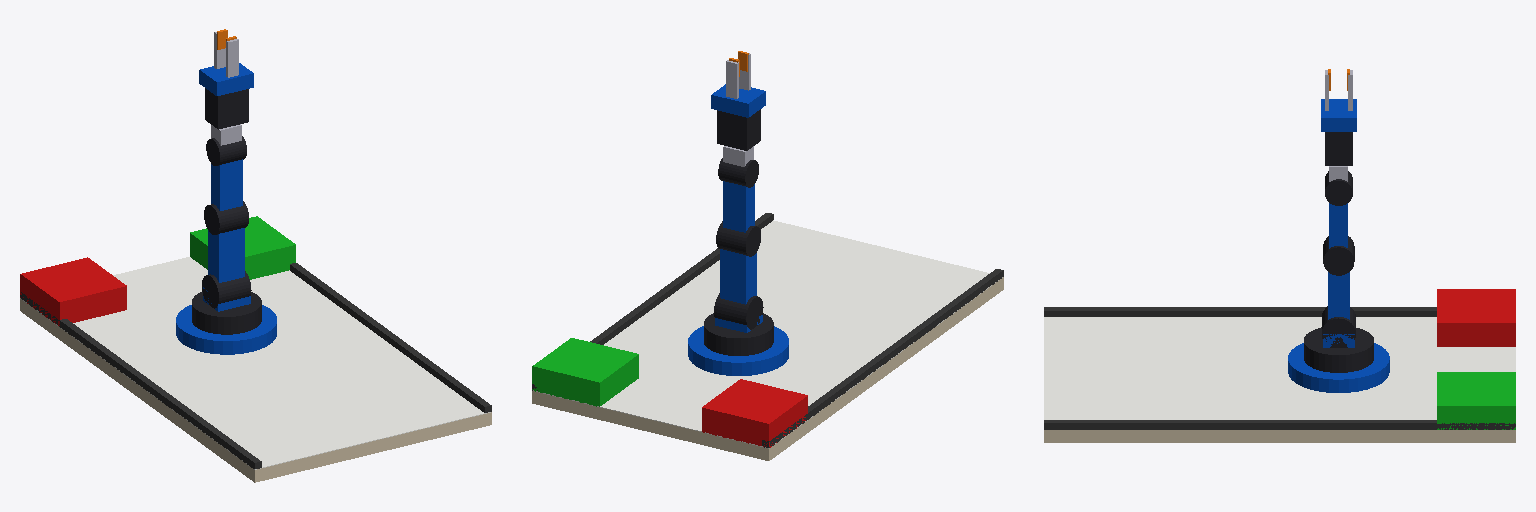
The robot description file, URDF, robot "xarm_1s_workcell":
<?xml version="1.0"?>
<robot name="xarm_1s_workcell">

  <!-- ========================================================================= -->
  <!-- MATERIALS                                                                 -->
  <!-- ========================================================================= -->
  <material name="chassis_blue">
    <color rgba="0.06 0.36 0.78 1.0"/>
  </material>

  <material name="servo_black">
    <color rgba="0.18 0.18 0.20 1.0"/>
  </material>

  <material name="bracket_metal">
    <color rgba="0.75 0.75 0.80 1.0"/>
  </material>

  <material name="table_wood">
    <color rgba="0.85 0.80 0.70 1.0"/>
  </material>

  <material name="arena_surface">
    <color rgba="0.96 0.96 0.94 1.0"/>
  </material>

  <material name="foam_barrier">
    <color rgba="0.25 0.25 0.25 1.0"/>
  </material>

  <material name="red_container_mat">
    <color rgba="0.85 0.12 0.12 0.85"/>
  </material>

  <material name="green_container_mat">
    <color rgba="0.12 0.75 0.18 0.85"/>
  </material>

  <material name="claw_pad">
    <color rgba="0.95 0.50 0.10 1.0"/>
  </material>

  <!-- ========================================================================= -->
  <!-- WORLD & WORKSPACE GEOMETRY                                                -->
  <!-- ========================================================================= -->
  <link name="world"/>

  <!-- Table Baseboard (350mm x 600mm x 18mm) -->
  <joint name="world_to_table" type="fixed">
    <parent link="world"/>
    <child link="table_board"/>
    <origin xyz="0.175 0.300 -0.009" rpy="0 0 0"/>
  </joint>

  <link name="table_board">
    <visual>
      <geometry>
        <box size="0.350 0.600 0.018"/>
      </geometry>
      <material name="table_wood"/>
    </visual>
    <collision>
      <geometry>
        <box size="0.350 0.600 0.018"/>
      </geometry>
    </collision>
  </link>

  <!-- Arena Surface (7x12 Grid: 350mm x 600mm) at Z = 0.0 -->
  <joint name="table_to_arena_surface" type="fixed">
    <parent link="world"/>
    <child link="arena_surface_link"/>
    <origin xyz="0.175 0.300 0.0005" rpy="0 0 0"/>
  </joint>

  <link name="arena_surface_link">
    <visual>
      <geometry>
        <box size="0.350 0.600 0.001"/>
      </geometry>
      <material name="arena_surface"/>
    </visual>
  </link>

  <!-- Compliant Foam Perimeter (8mm tall) -->
  <joint name="arena_to_perimeter_left" type="fixed">
    <parent link="world"/>
    <child link="perimeter_left"/>
    <origin xyz="0.005 0.300 0.005" rpy="0 0 0"/>
  </joint>
  <link name="perimeter_left">
    <visual>
      <geometry>
        <box size="0.010 0.600 0.010"/>
      </geometry>
      <material name="foam_barrier"/>
    </visual>
  </link>

  <joint name="arena_to_perimeter_right" type="fixed">
    <parent link="world"/>
    <child link="perimeter_right"/>
    <origin xyz="0.345 0.300 0.005" rpy="0 0 0"/>
  </joint>
  <link name="perimeter_right">
    <visual>
      <geometry>
        <box size="0.010 0.600 0.010"/>
      </geometry>
      <material name="foam_barrier"/>
    </visual>
  </link>

  <!-- Red Container Box (Rows 0..1, Cols 0..1 @ X=50mm, Y=550mm, Z=45mm) -->
  <joint name="world_to_red_box" type="fixed">
    <parent link="world"/>
    <child link="red_container_box"/>
    <origin xyz="0.050 0.550 0.0175" rpy="0 0 0"/>
  </joint>

  <link name="red_container_box">
    <visual>
      <geometry>
        <box size="0.100 0.100 0.035"/>
      </geometry>
      <material name="red_container_mat"/>
    </visual>
    <collision>
      <geometry>
        <box size="0.100 0.100 0.035"/>
      </geometry>
    </collision>
  </link>

  <!-- Green Container Box (Rows 0..1, Cols 5..6 @ X=300mm, Y=550mm, Z=45mm) -->
  <joint name="world_to_green_box" type="fixed">
    <parent link="world"/>
    <child link="green_container_box"/>
    <origin xyz="0.300 0.550 0.0175" rpy="0 0 0"/>
  </joint>

  <link name="green_container_box">
    <visual>
      <geometry>
        <box size="0.100 0.100 0.035"/>
      </geometry>
      <material name="green_container_mat"/>
    </visual>
    <collision>
      <geometry>
        <box size="0.100 0.100 0.035"/>
      </geometry>
    </collision>
  </link>

  <!-- ========================================================================= -->
  <!-- XARM 1S MANIPULATOR (Mount: X=175mm, Y=375mm, Z=0mm, Heading: -90° South) -->
  <!-- ========================================================================= -->
  <joint name="world_to_xarm_base" type="fixed">
    <parent link="world"/>
    <child link="xarm_1_base_link"/>
    <!-- Heading -90° (South) = rpy="0 0 -1.57079632679" -->
    <origin xyz="0.175 0.375 0.0" rpy="0 0 -1.57079632679"/>
  </joint>

  <link name="xarm_1_base_link">
    <visual>
      <!-- Blue Base Chassis Flange -->
      <origin xyz="0 0 0.010" rpy="0 0 0"/>
      <geometry>
        <cylinder radius="0.065" length="0.020"/>
      </geometry>
      <material name="chassis_blue"/>
    </visual>
    <collision>
      <origin xyz="0 0 0.010" rpy="0 0 0"/>
      <geometry>
        <cylinder radius="0.065" length="0.020"/>
      </geometry>
    </collision>
  </link>

  <!-- Joint 6: Base Yaw (Motor 6) -->
  <joint name="base_yaw" type="revolute">
    <parent link="xarm_1_base_link"/>
    <child link="shoulder_pedestal_link"/>
    <origin xyz="0 0 0.020" rpy="0 0 0"/>
    <axis xyz="0 0 1"/>
    <limit lower="-1.6839" upper="1.6671" effort="3.0" velocity="3.14"/>
  </joint>

  <!-- Base-to-Shoulder Pedestal (Height d1 = 65mm total from table to Motor 5 axis) -->
  <link name="shoulder_pedestal_link">
    <visual>
      <!-- Turntable rotating hub -->
      <origin xyz="0 0 0.0125" rpy="0 0 0"/>
      <geometry>
        <cylinder radius="0.045" length="0.025"/>
      </geometry>
      <material name="servo_black"/>
    </visual>
    <visual>
      <!-- Vertical shoulder riser bracket (d1 offset = 45mm from hub to axis) -->
      <origin xyz="0 0 0.0325" rpy="0 0 0"/>
      <geometry>
        <box size="0.040 0.048 0.025"/>
      </geometry>
      <material name="chassis_blue"/>
    </visual>
    <collision>
      <origin xyz="0 0 0.0225" rpy="0 0 0"/>
      <geometry>
        <cylinder radius="0.048" length="0.045"/>
      </geometry>
    </collision>
  </link>

  <!-- Joint 5: Shoulder Pitch (Motor 5, at height d1 = 65mm above table surface) -->
  <!-- Note: 0.020 (base) + 0.045 (pedestal) = 0.065m = d1 -->
  <joint name="shoulder_pitch" type="revolute">
    <parent link="shoulder_pedestal_link"/>
    <child link="upper_arm_link"/>
    <origin xyz="0 0 0.045" rpy="0 0 0"/>
    <axis xyz="0 1 0"/>
    <limit lower="-1.5750" upper="1.4786" effort="5.0" velocity="3.14"/>
  </joint>

  <!-- Upper Arm Link (Length L1 = 101mm between shoulder axis and elbow axis) -->
  <link name="upper_arm_link">
    <visual>
      <!-- Motor 5 servo body -->
      <origin xyz="0 0 0" rpy="1.5707963 0 0"/>
      <geometry>
        <cylinder radius="0.022" length="0.048"/>
      </geometry>
      <material name="servo_black"/>
    </visual>
    <visual>
      <!-- Upper arm structural dual aluminum channel (L1 = 101mm along +Z) -->
      <origin xyz="0 0 0.0505" rpy="0 0 0"/>
      <geometry>
        <box size="0.028 0.038 0.101"/>
      </geometry>
      <material name="chassis_blue"/>
    </visual>
    <collision>
      <origin xyz="0 0 0.0505" rpy="0 0 0"/>
      <geometry>
        <box size="0.032 0.042 0.105"/>
      </geometry>
    </collision>
  </link>

  <!-- Joint 4: Elbow Pitch (Motor 4, at L1 = 101mm from shoulder) -->
  <joint name="elbow_pitch" type="revolute">
    <parent link="upper_arm_link"/>
    <child link="forearm_link"/>
    <origin xyz="0 0 0.101" rpy="0 0 0"/>
    <axis xyz="0 -1 0"/>
    <limit lower="-1.4368" upper="1.5247" effort="4.0" velocity="3.14"/>
  </joint>

  <!-- Forearm Link (Length L2 = 95mm between elbow axis and wrist pitch axis) -->
  <link name="forearm_link">
    <visual>
      <!-- Motor 4 servo body -->
      <origin xyz="0 0 0" rpy="1.5707963 0 0"/>
      <geometry>
        <cylinder radius="0.020" length="0.044"/>
      </geometry>
      <material name="servo_black"/>
    </visual>
    <visual>
      <!-- Forearm structural bracket (L2 = 95mm along +Z) -->
      <origin xyz="0 0 0.0475" rpy="0 0 0"/>
      <geometry>
        <box size="0.024 0.034 0.095"/>
      </geometry>
      <material name="chassis_blue"/>
    </visual>
    <collision>
      <origin xyz="0 0 0.0475" rpy="0 0 0"/>
      <geometry>
        <box size="0.028 0.038 0.095"/>
      </geometry>
    </collision>
  </link>

  <!-- Joint 3: Wrist Pitch (Motor 3, at L2 = 95mm from elbow) -->
  <joint name="wrist_pitch" type="revolute">
    <parent link="forearm_link"/>
    <child link="wrist_pitch_link"/>
    <origin xyz="0 0 0.095" rpy="0 0 0"/>
    <axis xyz="0 1 0"/>
    <limit lower="-1.6043" upper="1.5080" effort="2.5" velocity="3.14"/>
  </joint>

  <link name="wrist_pitch_link">
    <visual>
      <!-- Motor 3 servo body -->
      <origin xyz="0 0 0" rpy="1.5707963 0 0"/>
      <geometry>
        <cylinder radius="0.018" length="0.040"/>
      </geometry>
      <material name="servo_black"/>
    </visual>
    <visual>
      <!-- Connecting bracket to Motor 2 wrist roll -->
      <origin xyz="0 0 0.0175" rpy="0 0 0"/>
      <geometry>
        <box size="0.024 0.032 0.035"/>
      </geometry>
      <material name="bracket_metal"/>
    </visual>
    <collision>
      <origin xyz="0 0 0.0175" rpy="0 0 0"/>
      <geometry>
        <box size="0.026 0.034 0.035"/>
      </geometry>
    </collision>
  </link>

  <!-- Joint 2: Wrist Roll (Motor 2, axial roll along tool shaft) -->
  <joint name="wrist_roll" type="revolute">
    <parent link="wrist_pitch_link"/>
    <child link="gripper_base_link"/>
    <origin xyz="0 0 0.035" rpy="0 0 0"/>
    <axis xyz="0 0 1"/>
    <limit lower="-1.5876" upper="1.5959" effort="2.0" velocity="3.14"/>
  </joint>

  <!-- Gripper Base & Motor 1 Housing (Length to grip center L3 = 150mm total from wrist pitch) -->
  <!-- Note: 0.035 + 0.115 = 0.150m = L3_grip -->
  <link name="gripper_base_link">
    <visual>
      <!-- Motor 2 & Motor 1 chassis -->
      <origin xyz="0 0 0.030" rpy="0 0 0"/>
      <geometry>
        <box size="0.035 0.045 0.050"/>
      </geometry>
      <material name="servo_black"/>
    </visual>
    <visual>
      <!-- Claw bracket base -->
      <origin xyz="0 0 0.065" rpy="0 0 0"/>
      <geometry>
        <box size="0.045 0.055 0.020"/>
      </geometry>
      <material name="chassis_blue"/>
    </visual>
    <collision>
      <origin xyz="0 0 0.045" rpy="0 0 0"/>
      <geometry>
        <box size="0.045 0.055 0.075"/>
      </geometry>
    </collision>
  </link>

  <!-- Joint 1: Claw Gripper (Motor 1, symmetrical clamp) -->
  <joint name="claw_gripper" type="revolute">
    <parent link="gripper_base_link"/>
    <child link="claw_left_finger"/>
    <origin xyz="-0.015 0 0.075" rpy="0 0 0"/>
    <axis xyz="0 1 0"/>
    <limit lower="-1.2189" upper="1.1100" effort="2.0" velocity="3.14"/>
  </joint>

  <link name="claw_left_finger">
    <visual>
      <!-- Left finger prong -->
      <origin xyz="0 0 0.025" rpy="0 0 0"/>
      <geometry>
        <box size="0.006 0.016 0.050"/>
      </geometry>
      <material name="bracket_metal"/>
    </visual>
    <visual>
      <!-- Orange silicone high-friction pad -->
      <origin xyz="0.003 0 0.040" rpy="0 0 0"/>
      <geometry>
        <box size="0.004 0.014 0.025"/>
      </geometry>
      <material name="claw_pad"/>
    </visual>
    <collision>
      <origin xyz="0 0 0.025" rpy="0 0 0"/>
      <geometry>
        <box size="0.008 0.018 0.050"/>
      </geometry>
    </collision>
  </link>

  <!-- Symmetrical Right Claw Finger (Mimic joint) -->
  <joint name="claw_right_finger_joint" type="revolute">
    <parent link="gripper_base_link"/>
    <child link="claw_right_finger"/>
    <origin xyz="0.015 0 0.075" rpy="0 0 0"/>
    <axis xyz="0 1 0"/>
    <mimic joint="claw_gripper" multiplier="-1.0" offset="0.0"/>
    <limit lower="-1.2189" upper="1.1100" effort="2.0" velocity="3.14"/>
  </joint>

  <link name="claw_right_finger">
    <visual>
      <!-- Right finger prong -->
      <origin xyz="0 0 0.025" rpy="0 0 0"/>
      <geometry>
        <box size="0.006 0.016 0.050"/>
      </geometry>
      <material name="bracket_metal"/>
    </visual>
    <visual>
      <!-- Orange silicone high-friction pad -->
      <origin xyz="-0.003 0 0.040" rpy="0 0 0"/>
      <geometry>
        <box size="0.004 0.014 0.025"/>
      </geometry>
      <material name="claw_pad"/>
    </visual>
    <collision>
      <origin xyz="0 0 0.025" rpy="0 0 0"/>
      <geometry>
        <box size="0.008 0.018 0.050"/>
      </geometry>
    </collision>
  </link>

  <!-- Tool Tip / End-Effector Grasp Center Frame (L3 = 150mm from wrist pitch) -->
  <joint name="tool_tip_joint" type="fixed">
    <parent link="gripper_base_link"/>
    <child link="tool_tip"/>
    <origin xyz="0 0 0.115" rpy="0 0 0"/>
  </joint>

  <link name="tool_tip"/>

</robot>

--- Render facts (derived) ---
Views: 3 orthographic renders of the robot side by side, from view 1: azimuth 30°, elevation 25°; view 2: azimuth 150°, elevation 25°; view 3: azimuth 270°, elevation 25°.
Robot: xarm_1s_workcell — 16 links, 15 joints (7 revolute, 8 fixed); root link world; default pose: every joint at zero.
Links seen in each view (by area): view 1: arena_surface_link, table_board, red_container_box, green_container_box, upper_arm_link, perimeter_left, gripper_base_link, xarm_1_base_link, perimeter_right, forearm_link, shoulder_pedestal_link, wrist_pitch_link; view 2: arena_surface_link, table_board, green_container_box, red_container_box, upper_arm_link, perimeter_left, gripper_base_link, xarm_1_base_link, forearm_link, shoulder_pedestal_link, perimeter_right, wrist_pitch_link (+1 smaller); view 3: arena_surface_link, table_board, red_container_box, perimeter_right, green_container_box, perimeter_left, xarm_1_base_link, shoulder_pedestal_link, gripper_base_link, upper_arm_link, forearm_link, wrist_pitch_link.
Link boxes in pixels (left/top/right/bottom): arena_surface_link: left=20, top=257, right=490, bottom=469; table_board: left=20, top=299, right=491, bottom=482; red_container_box: left=20, top=257, right=126, bottom=325; green_container_box: left=190, top=216, right=295, bottom=279; upper_arm_link: left=202, top=228, right=251, bottom=308; perimeter_left: left=20, top=292, right=261, bottom=468; gripper_base_link: left=199, top=63, right=253, bottom=129; xarm_1_base_link: left=176, top=305, right=276, bottom=354; perimeter_right: left=290, top=263, right=491, bottom=412; forearm_link: left=204, top=159, right=248, bottom=234; shoulder_pedestal_link: left=192, top=287, right=261, bottom=334; wrist_pitch_link: left=206, top=124, right=246, bottom=165; arena_surface_link: left=533, top=220, right=1002, bottom=448; table_board: left=532, top=277, right=1003, bottom=460; green_container_box: left=532, top=338, right=638, bottom=406; red_container_box: left=702, top=379, right=807, bottom=447; upper_arm_link: left=714, top=249, right=763, bottom=329; perimeter_left: left=762, top=269, right=1003, bottom=447; gripper_base_link: left=711, top=84, right=765, bottom=150; xarm_1_base_link: left=688, top=326, right=788, bottom=375; forearm_link: left=716, top=181, right=760, bottom=256; shoulder_pedestal_link: left=704, top=313, right=773, bottom=355; perimeter_right: left=532, top=213, right=773, bottom=390; wrist_pitch_link: left=718, top=146, right=758, bottom=187; arena_surface_link: left=1044, top=317, right=1515, bottom=419; table_board: left=1044, top=430, right=1515, bottom=442; red_container_box: left=1437, top=289, right=1515, bottom=346; perimeter_right: left=1044, top=420, right=1515, bottom=429; green_container_box: left=1437, top=372, right=1515, bottom=429; perimeter_left: left=1044, top=307, right=1436, bottom=316; xarm_1_base_link: left=1288, top=343, right=1389, bottom=392; shoulder_pedestal_link: left=1304, top=327, right=1373, bottom=372; gripper_base_link: left=1321, top=99, right=1356, bottom=165; upper_arm_link: left=1322, top=272, right=1355, bottom=347; forearm_link: left=1323, top=203, right=1354, bottom=275; wrist_pitch_link: left=1325, top=166, right=1352, bottom=205.
Bounding box of the posed robot: 0.35 × 0.6 × 0.4415 m (x, y, z).
Geometry: primitives only (box / cylinder / sphere), no mesh files.
